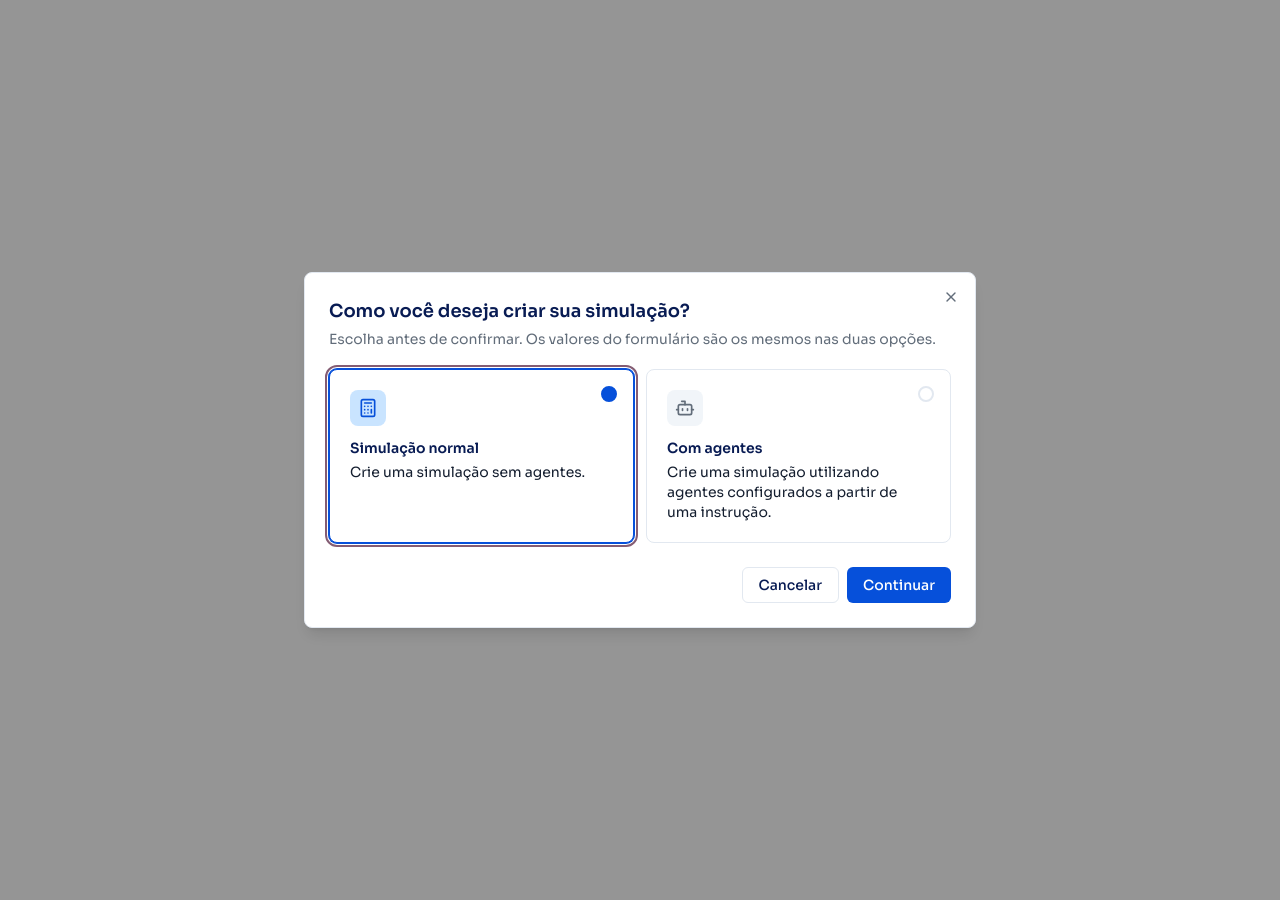
Scenario: creation mode dialog › with agents, shows the instructions already filled with the default prompt
The width and height of the screenshot is (1280, 900).
What coordinates should you click on to do the following:
click the radio button labelled "Com agentes"
I would click on:
 (685, 408)
Its box is [646, 369, 951, 543].
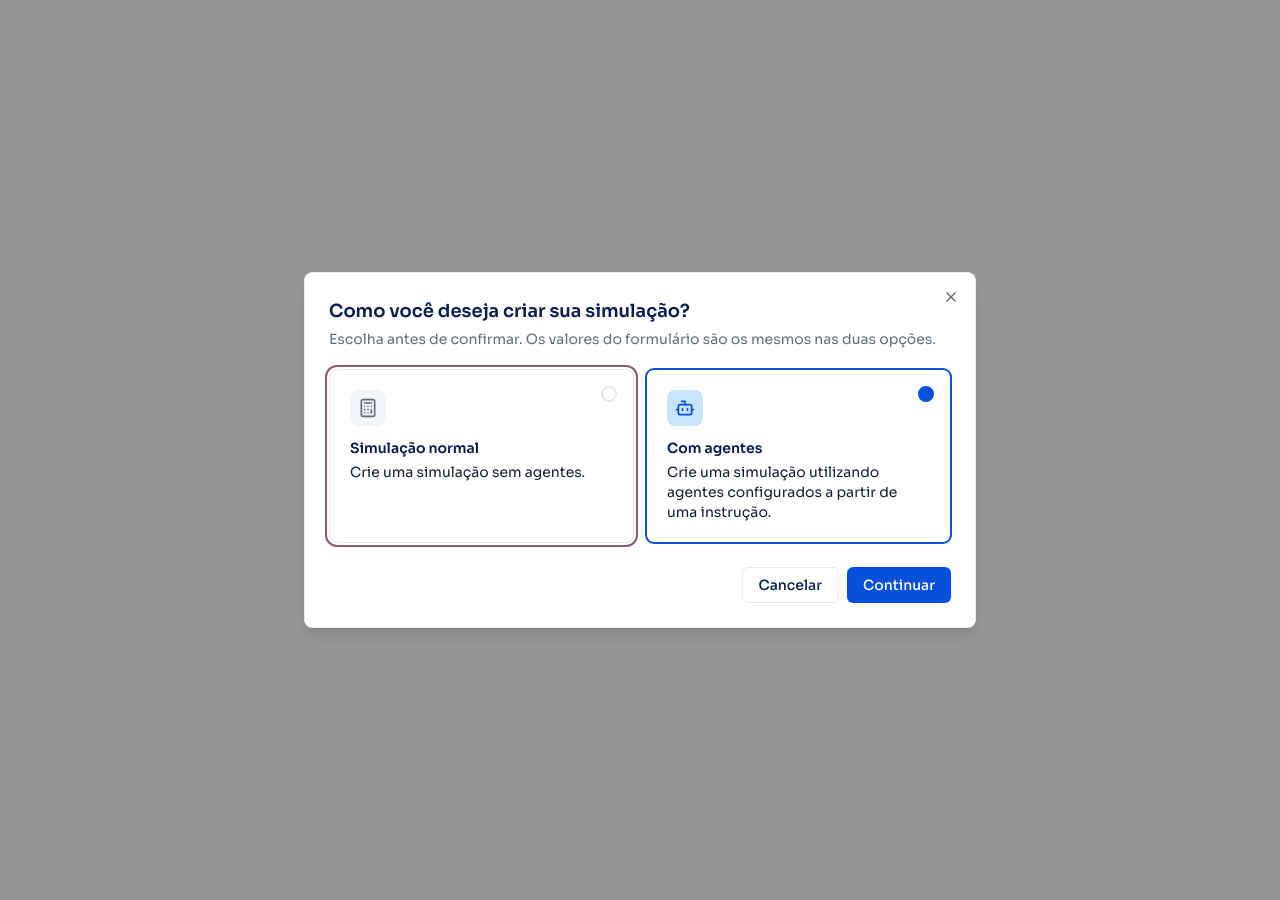
Check: the radio button labelled "Com agentes" is checked, box [646, 369, 951, 543]
What coordinates should you click on to do the following:
click the button "Continuar"
I would click on:
 (899, 585)
Its box is [847, 567, 951, 603].
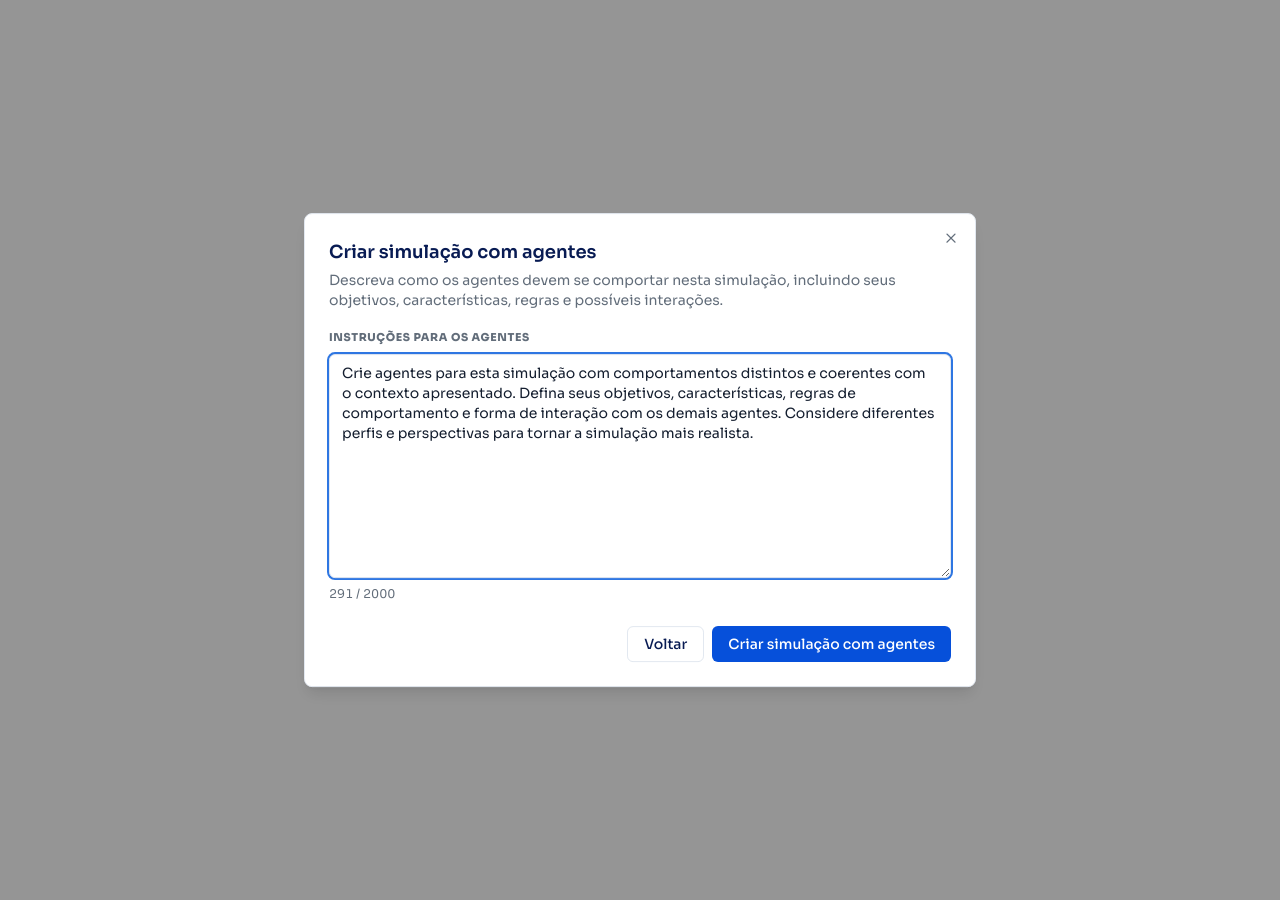
Check: the button "Criar simulação com agentes" is shown, box [712, 626, 951, 662]
